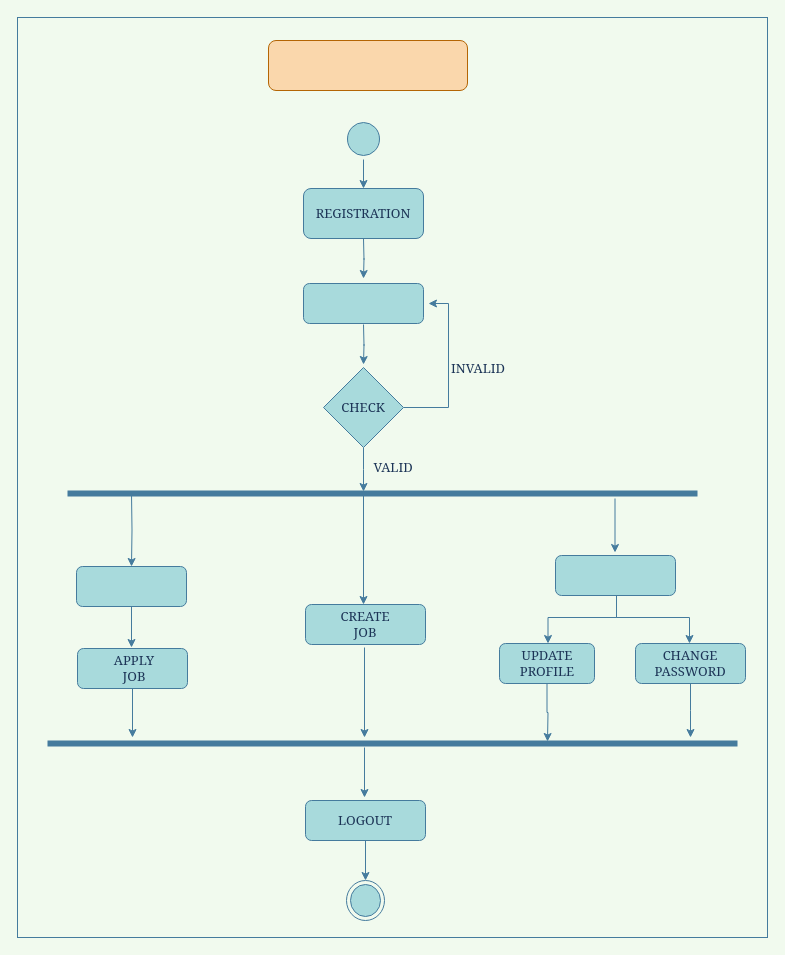
The diagram is 785 pixels wide and 955 high, and some of its shapes have lost their labels. The shapes that lost their labels are listed below. From the top down, each one's box as (x1, y1, x2, y2) in pixels, then its label:
(268, 40, 468, 90): ACTIVITY DIAGRAM
(302, 282, 424, 324): LOGIN
(76, 566, 186, 606): SEARCH JOB
(554, 554, 676, 596): MANAGE ACCOUNT
